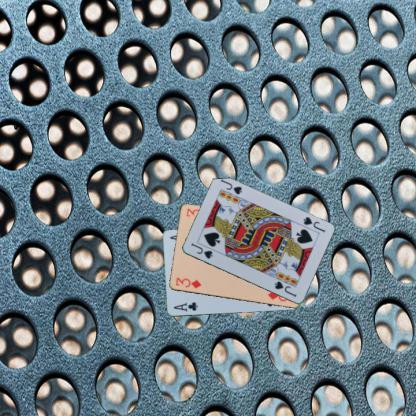3d: (173, 275, 202, 289)
Ac: (171, 299, 199, 313)
Js: (188, 240, 214, 260), (300, 214, 326, 234)
